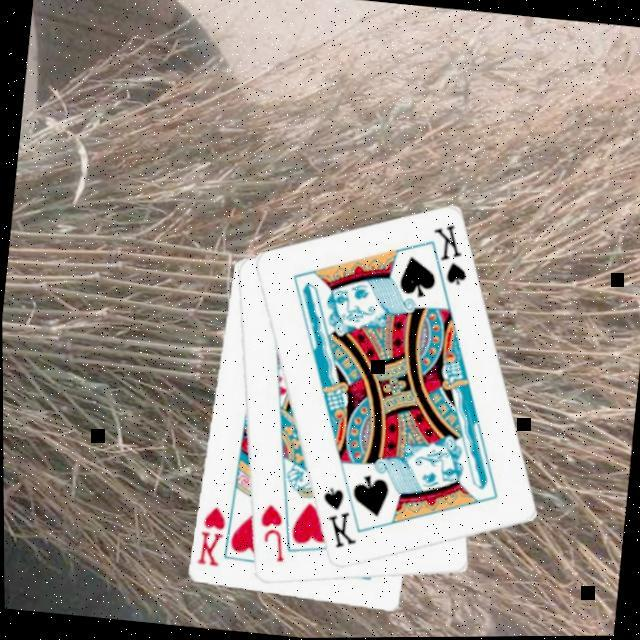JH: (248, 499, 288, 565)
KH: (189, 500, 226, 569)
KS: (417, 219, 472, 299), (311, 482, 361, 552)
